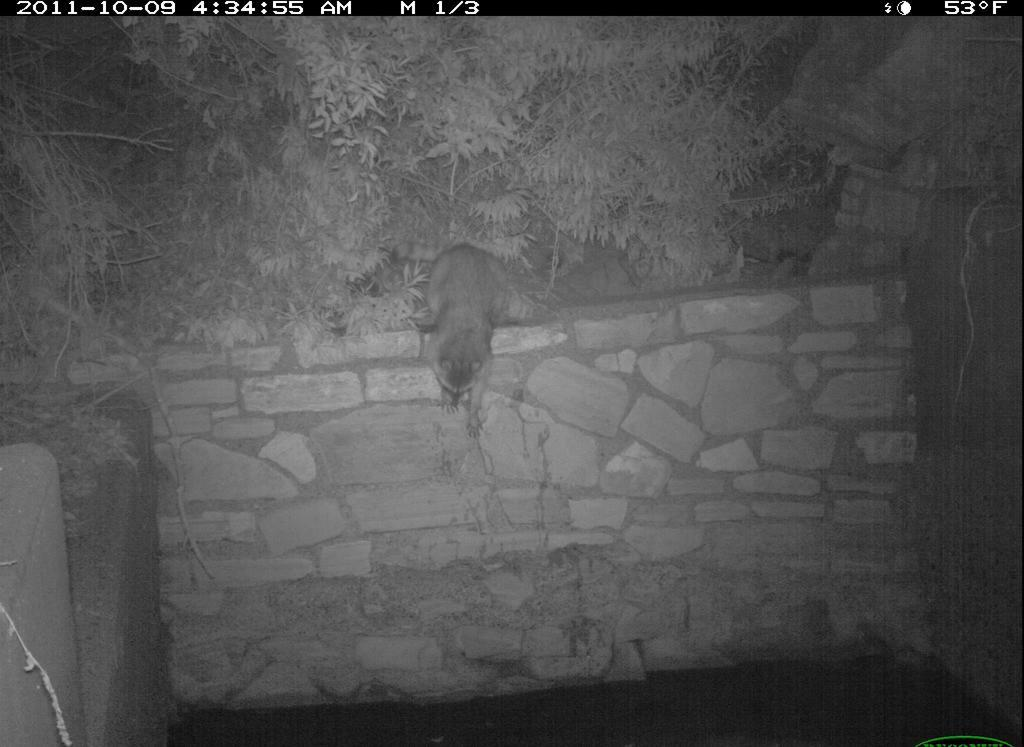raccoon: (390, 233, 542, 441)
